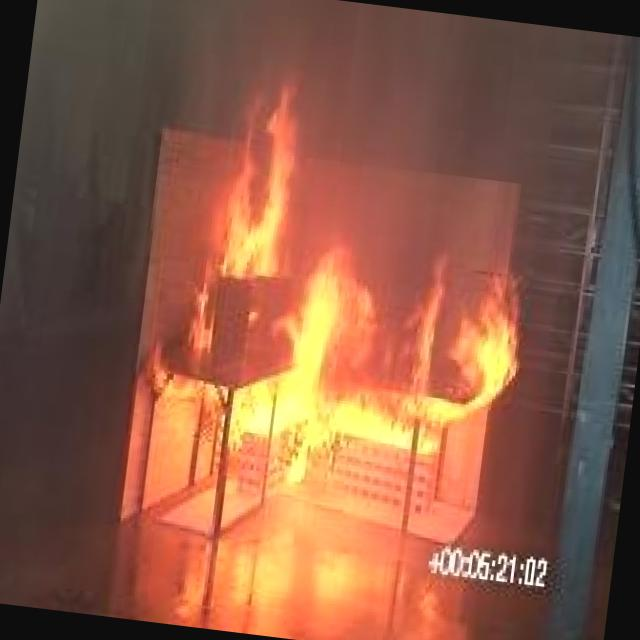fire: (103, 62, 554, 528)
